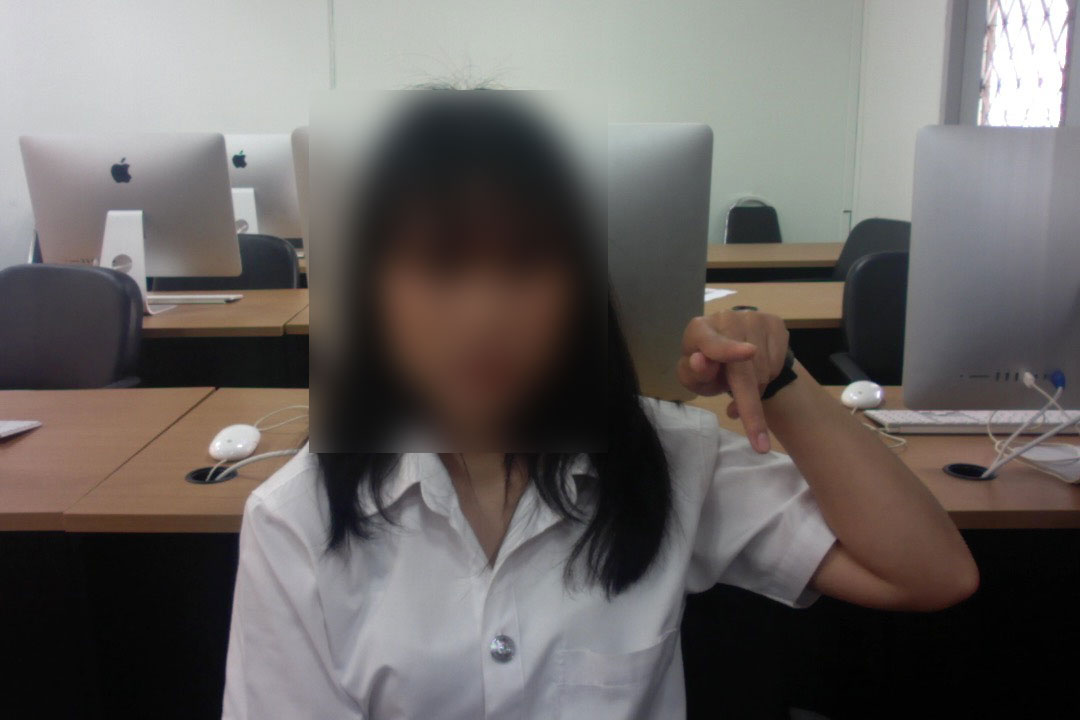por: (670, 299, 798, 459)
